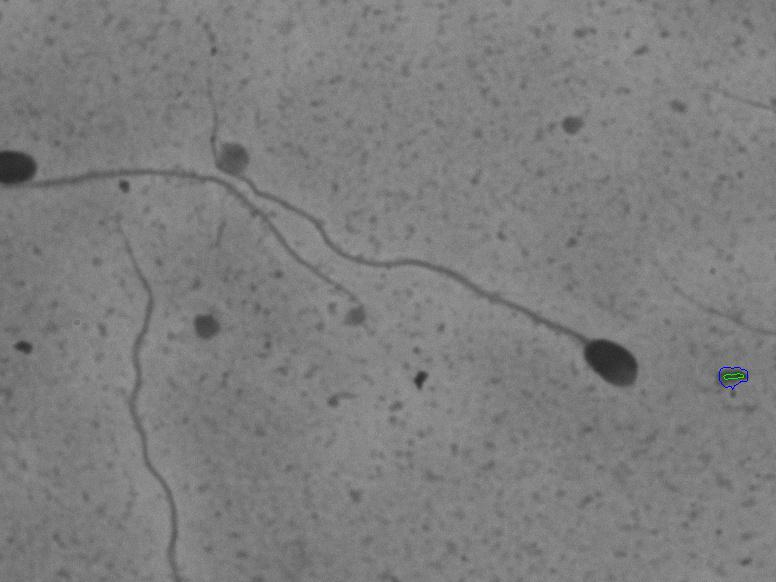Normal: (191, 52, 651, 402)
